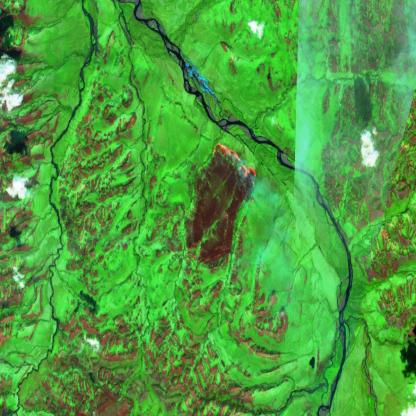fire: (182, 128, 259, 280)
